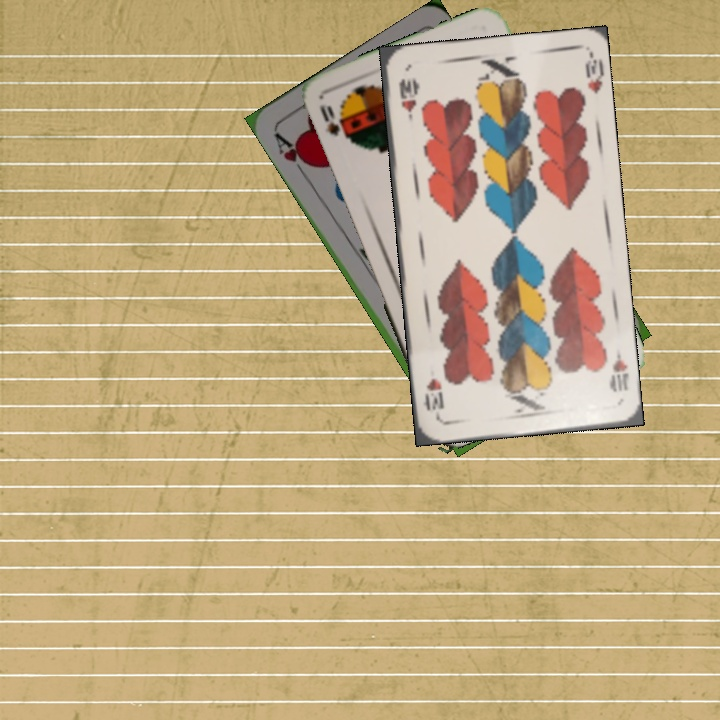H10: (605, 344, 631, 395), (394, 74, 419, 124)
HA: (270, 128, 315, 180)
SO: (315, 101, 350, 142)
